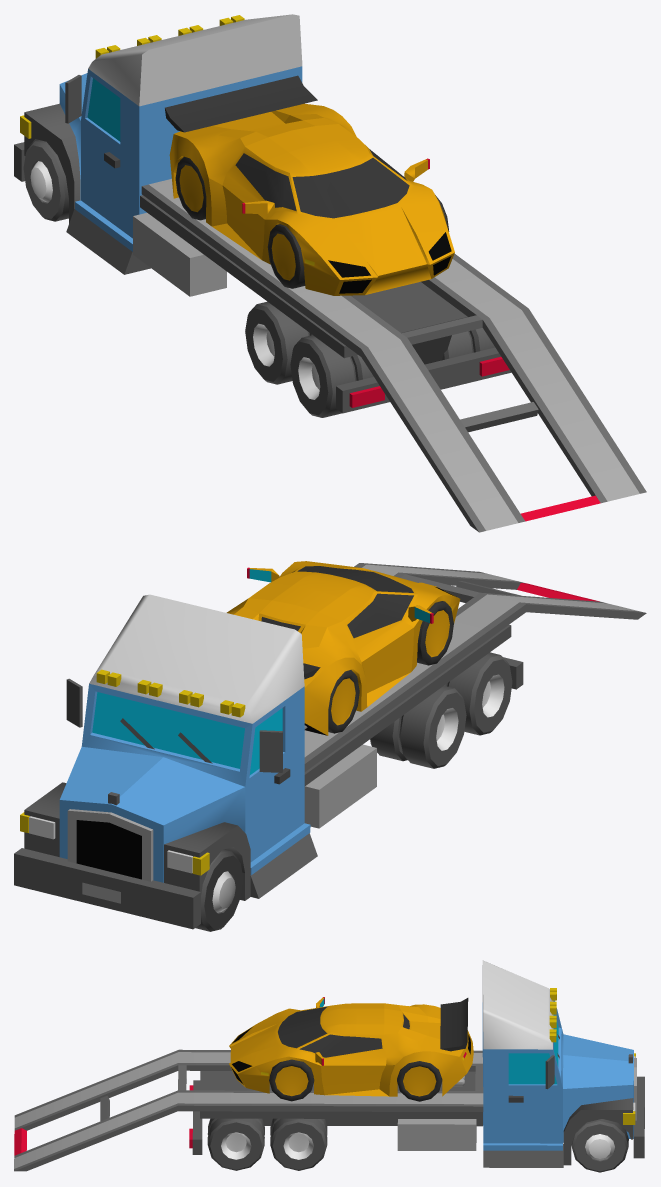
The model's file is track_3.fbx.
The picture shows the model from 3 angles, top to bottom: view 1: azimuth 30°, elevation 25°; view 2: azimuth 150°, elevation 25°; view 3: azimuth 270°, elevation 25°; orthographic projection. The views are drawn at different scales.
Parts seen in each view (by area): view 1: track_3; view 2: track_3; view 3: track_3.
Part boxes in pixels (box(x1,y1,x2,y2)): track_3: box(14, 14, 646, 532); track_3: box(14, 561, 646, 931); track_3: box(14, 960, 644, 1172).
Size of the model in its own units: 444 by 453 by 1643.
